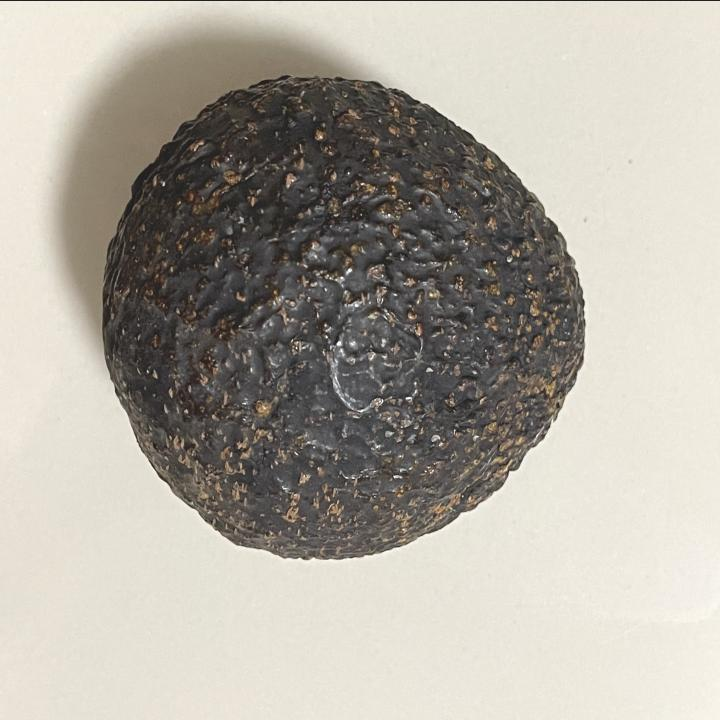Level3: (92, 61, 596, 574)
